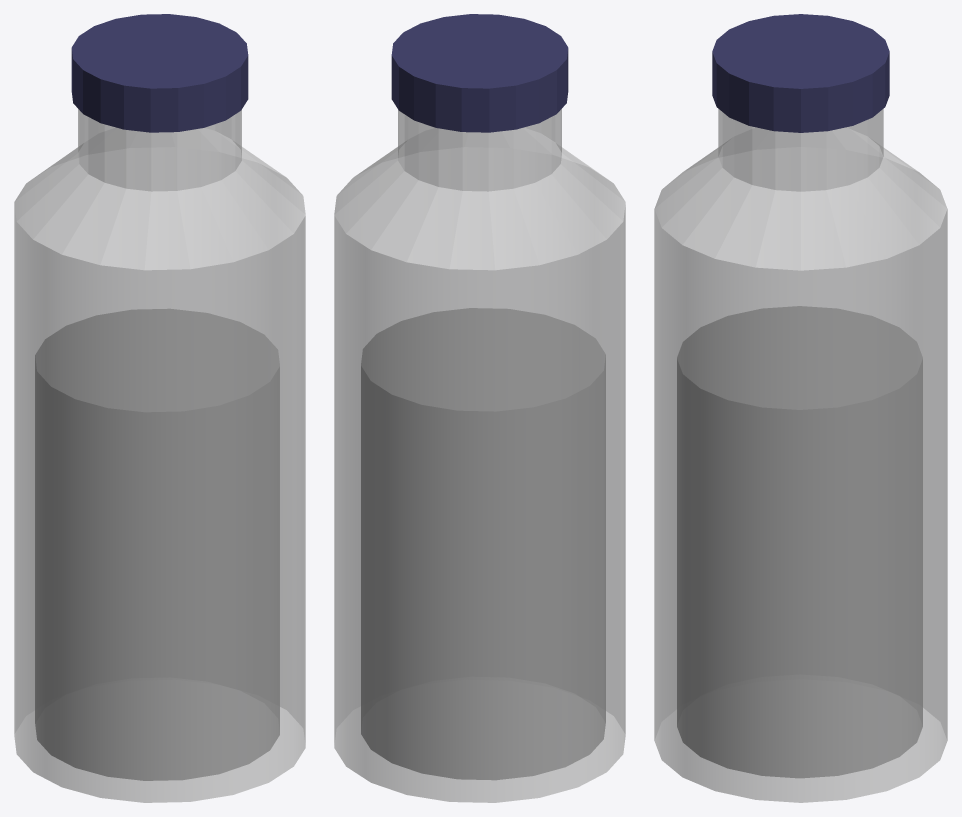
Rendered from NoesAgua.fbx.
The picture shows the model from 3 angles, left to right: view 1: azimuth 30°, elevation 25°; view 2: azimuth 150°, elevation 25°; view 3: azimuth 270°, elevation 25°; orthographic projection.
Visible parts, largest first — view 1: pCylinder35; view 2: pCylinder35; view 3: pCylinder35.
Part boxes in pixels (x1,y1,x2,y2): pCylinder35: (14,14,305,802); pCylinder35: (334,14,625,802); pCylinder35: (654,14,947,802).
Bounding box in the file's own units: 0.3101 × 0.8052 × 0.3101.
